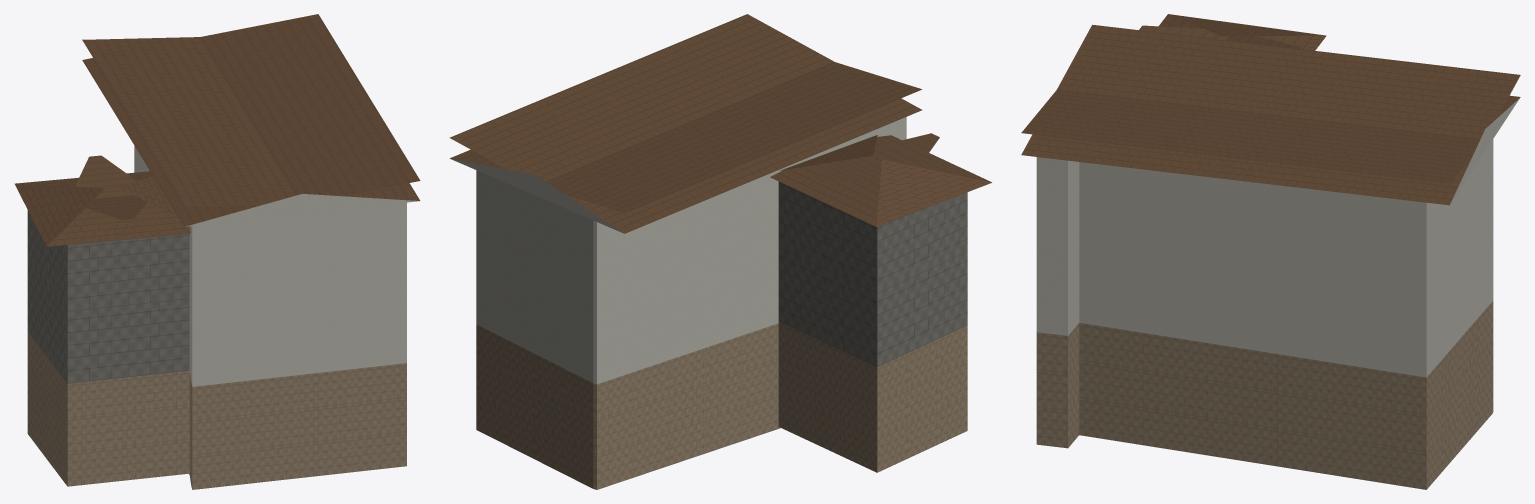
The model's file is bld_c33_47_239.gltf.
The picture shows the model from 3 angles, left to right: view 1: azimuth 30°, elevation 25°; view 2: azimuth 150°, elevation 25°; view 3: azimuth 270°, elevation 25°; orthographic projection. The views are drawn at different scales.
Parts seen in each view (by area): view 1: bld_c33_47_239; view 2: bld_c33_47_239; view 3: bld_c33_47_239.
Boxes of the visible parts, x1,y1,x2,y2 form: bld_c33_47_239: (14,14,420,489); bld_c33_47_239: (449,14,991,489); bld_c33_47_239: (1021,14,1520,489).
Bounding box in the file's own units: 20.77 × 14.3 × 20.55.
5 materials, 5 textured.
